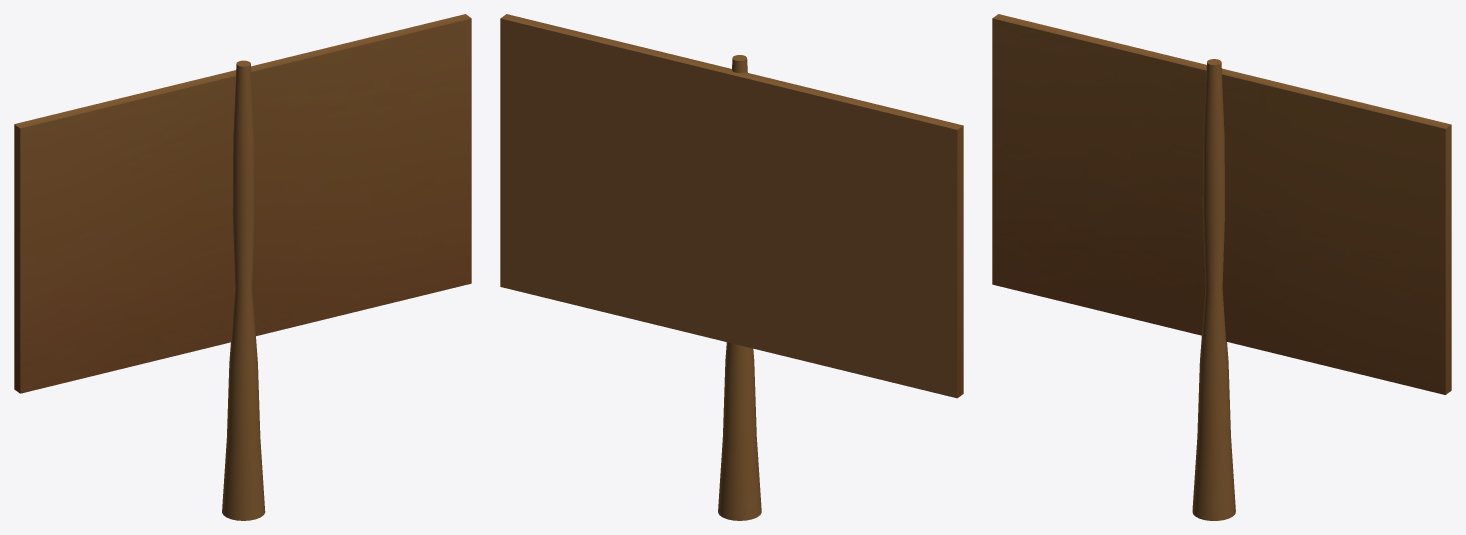
File: sign.fbx
3 renders of one model, left to right at view 1: azimuth 30°, elevation 25°; view 2: azimuth 150°, elevation 25°; view 3: azimuth 330°, elevation 25°, orthographic.
Parts seen in each view (by area): view 1: group54_pasted__group49_pasted__pasted__pCylinder10; view 2: group54_pasted__group49_pasted__pasted__pCylinder10; view 3: group54_pasted__group49_pasted__pasted__pCylinder10.
Boxes of the visible parts, x1=… form: group54_pasted__group49_pasted__pasted__pCylinder10: x1=14, y1=14, x2=471, y2=520; group54_pasted__group49_pasted__pasted__pCylinder10: x1=500, y1=14, x2=963, y2=520; group54_pasted__group49_pasted__pasted__pCylinder10: x1=992, y1=14, x2=1451, y2=520.
Size of the model in its own units: 0.152 by 0.1442 by 0.0126.
